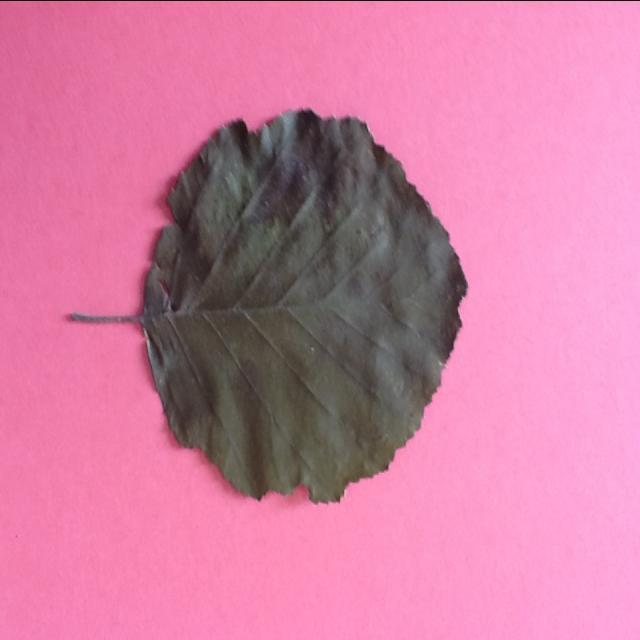foliage: (57, 100, 475, 511)
